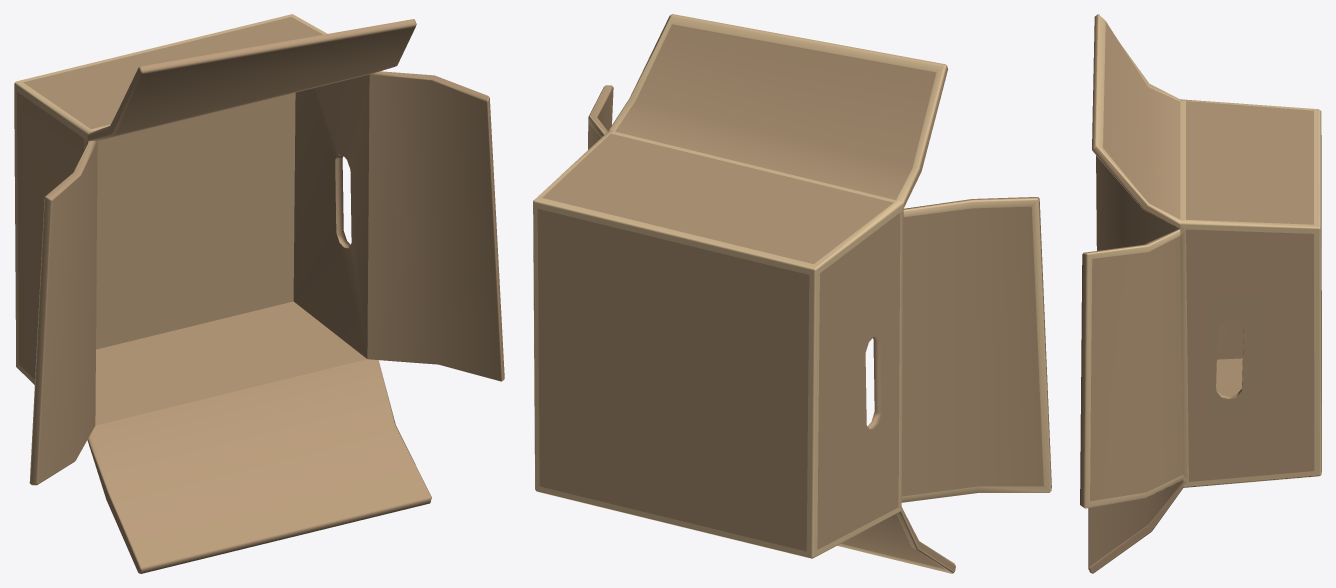
Rendered from BoxG.fbx.
3 views of the same model, side by side, from view 1: azimuth 30°, elevation 25°; view 2: azimuth 150°, elevation 25°; view 3: azimuth 270°, elevation 25° (orthographic). The views are drawn at different scales.
Parts seen in each view (by area): view 1: BoxG; view 2: BoxG; view 3: BoxG.
Boxes of the visible parts, box(x1,y1,x2,y2) form: BoxG: box(14, 14, 504, 573); BoxG: box(533, 14, 1051, 573); BoxG: box(1080, 14, 1321, 573).
Bounding box in the file's own units: 493 × 513 × 256.
